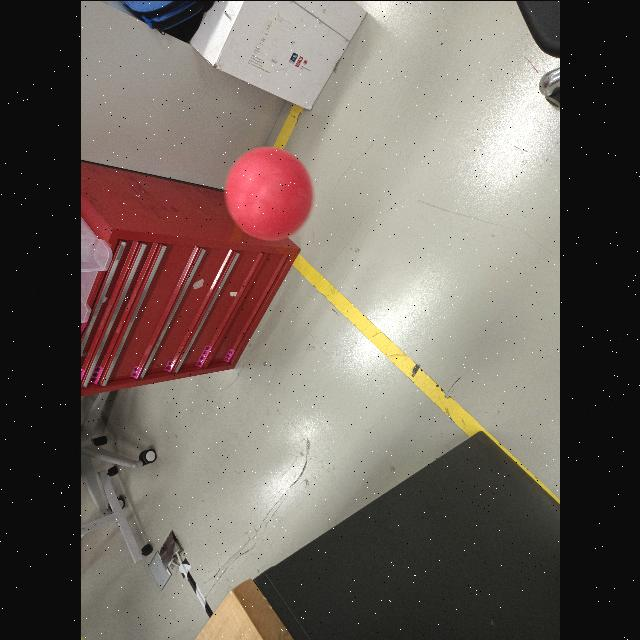R: (224, 144, 310, 240)
